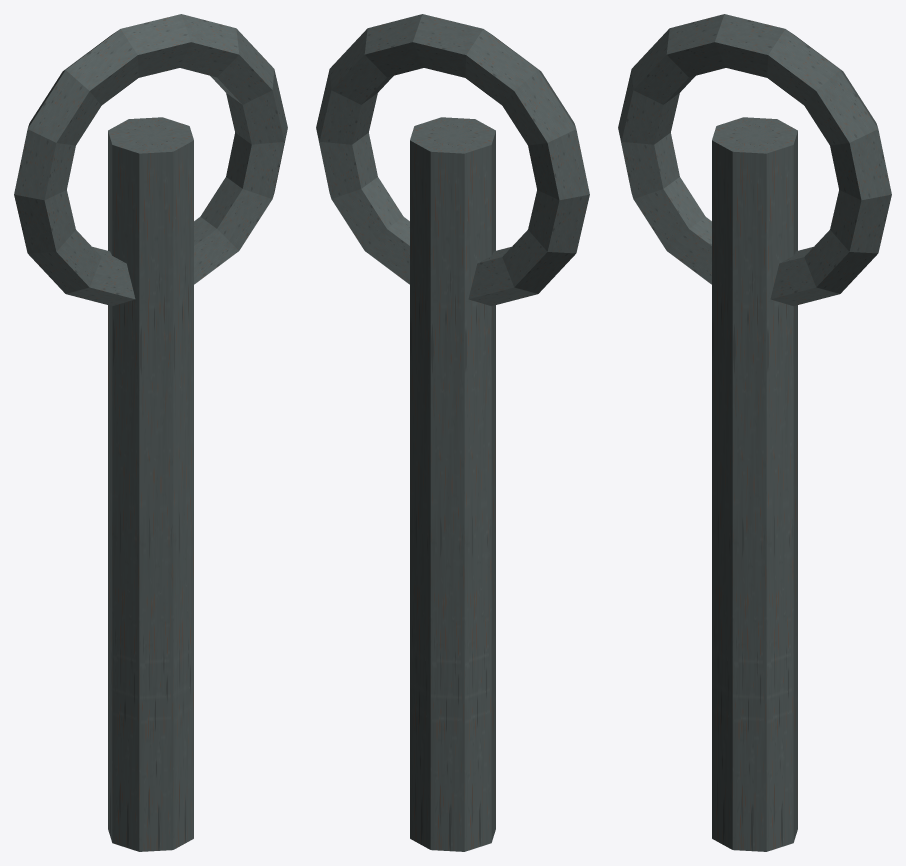
File: pr-019_anchor_point_peg__inactive.obj
3 views of the same model, side by side, from view 1: azimuth 30°, elevation 25°; view 2: azimuth 150°, elevation 25°; view 3: azimuth 330°, elevation 25° (orthographic).
Visible parts, largest first — view 1: pr-019_anchor_point_peg__inactive; view 2: pr-019_anchor_point_peg__inactive; view 3: pr-019_anchor_point_peg__inactive.
Boxes of the visible parts, box(x1,y1,x2,y2) form: pr-019_anchor_point_peg__inactive: box(14, 14, 287, 851); pr-019_anchor_point_peg__inactive: box(316, 14, 589, 851); pr-019_anchor_point_peg__inactive: box(618, 14, 891, 851).
Size of the model in its own units: 0.39 by 1.11 by 0.11.
1 material, 1 textured.
